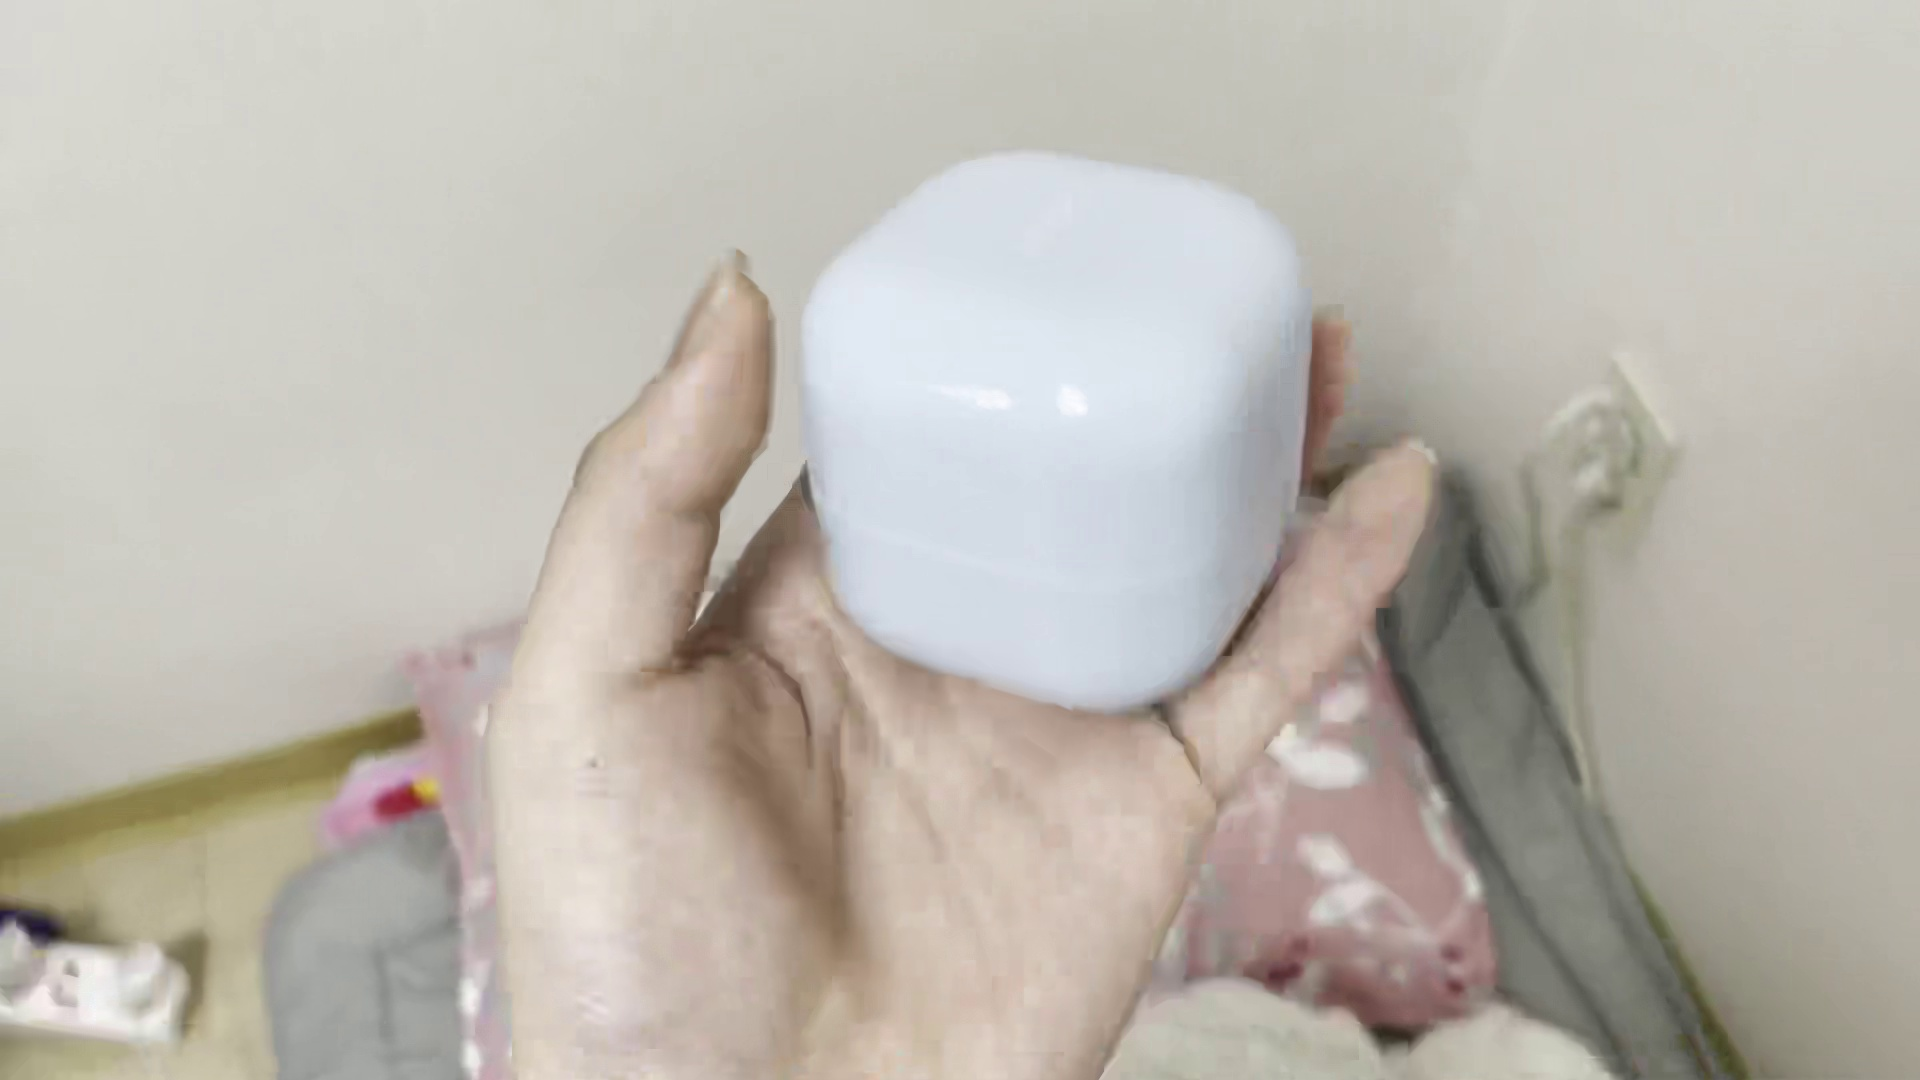cream: (804, 141, 1312, 725)
